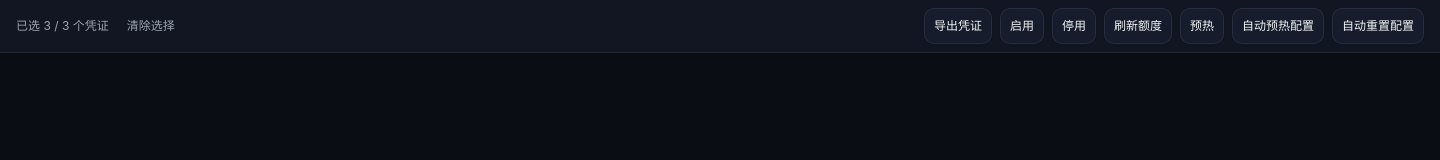
it: prevents disabling every enabled credential of an enabled channel before any request
The width and height of the screenshot is (1440, 160).
Click the button "停用". click: {"x": 1074, "y": 26}
box: [1052,8,1096,44]
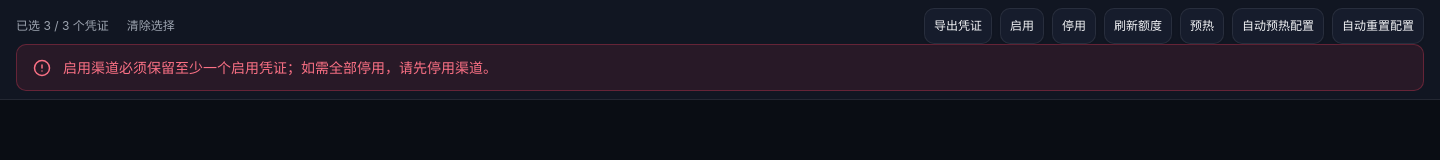
Check: the text "启用渠道必须保留至少一个启用凭证；如需全部停用，请先停用渠道。" is shown, box [63,59,497,76]
